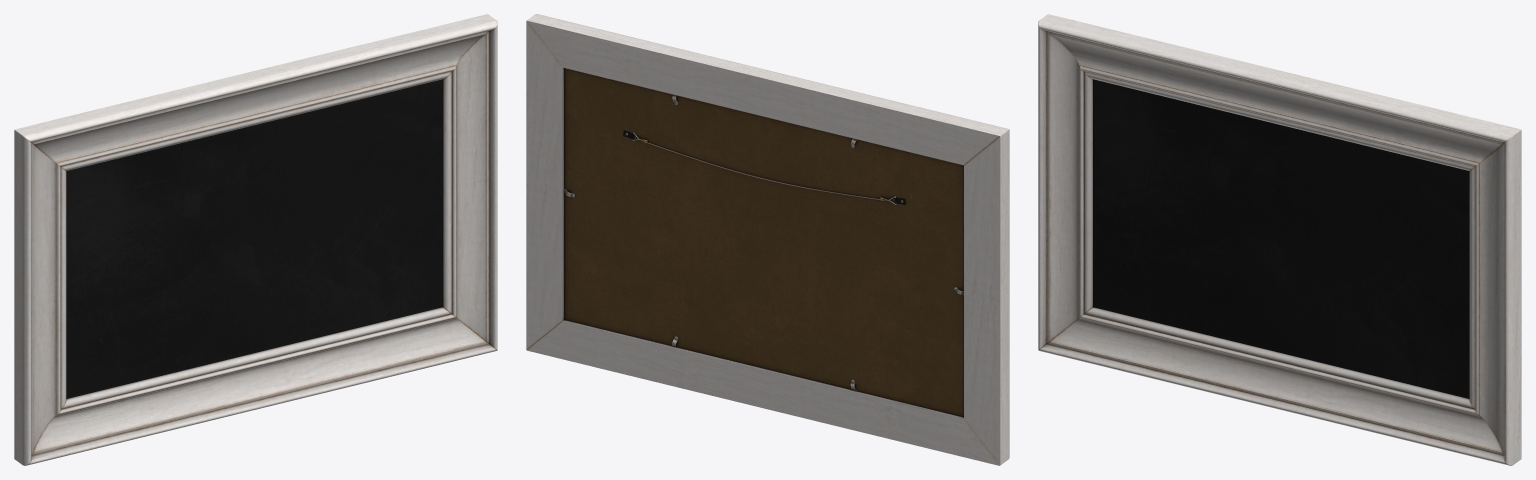
The model's file is frame_02.glb.
The picture shows the model from 3 angles, left to right: view 1: azimuth 30°, elevation 25°; view 2: azimuth 150°, elevation 25°; view 3: azimuth 330°, elevation 25°; orthographic projection.
Parts seen in each view (by area): view 1: hanging_picture_frame_02; view 2: hanging_picture_frame_02; view 3: hanging_picture_frame_02.
Part boxes in pixels (x1=…): hanging_picture_frame_02: x1=14, y1=14, x2=497, y2=465; hanging_picture_frame_02: x1=526, y1=14, x2=1009, y2=465; hanging_picture_frame_02: x1=1038, y1=14, x2=1521, y2=465.
Bounding box in the file's own units: 0.421 × 0.28 × 0.0185.
3 materials, 3 textured.
